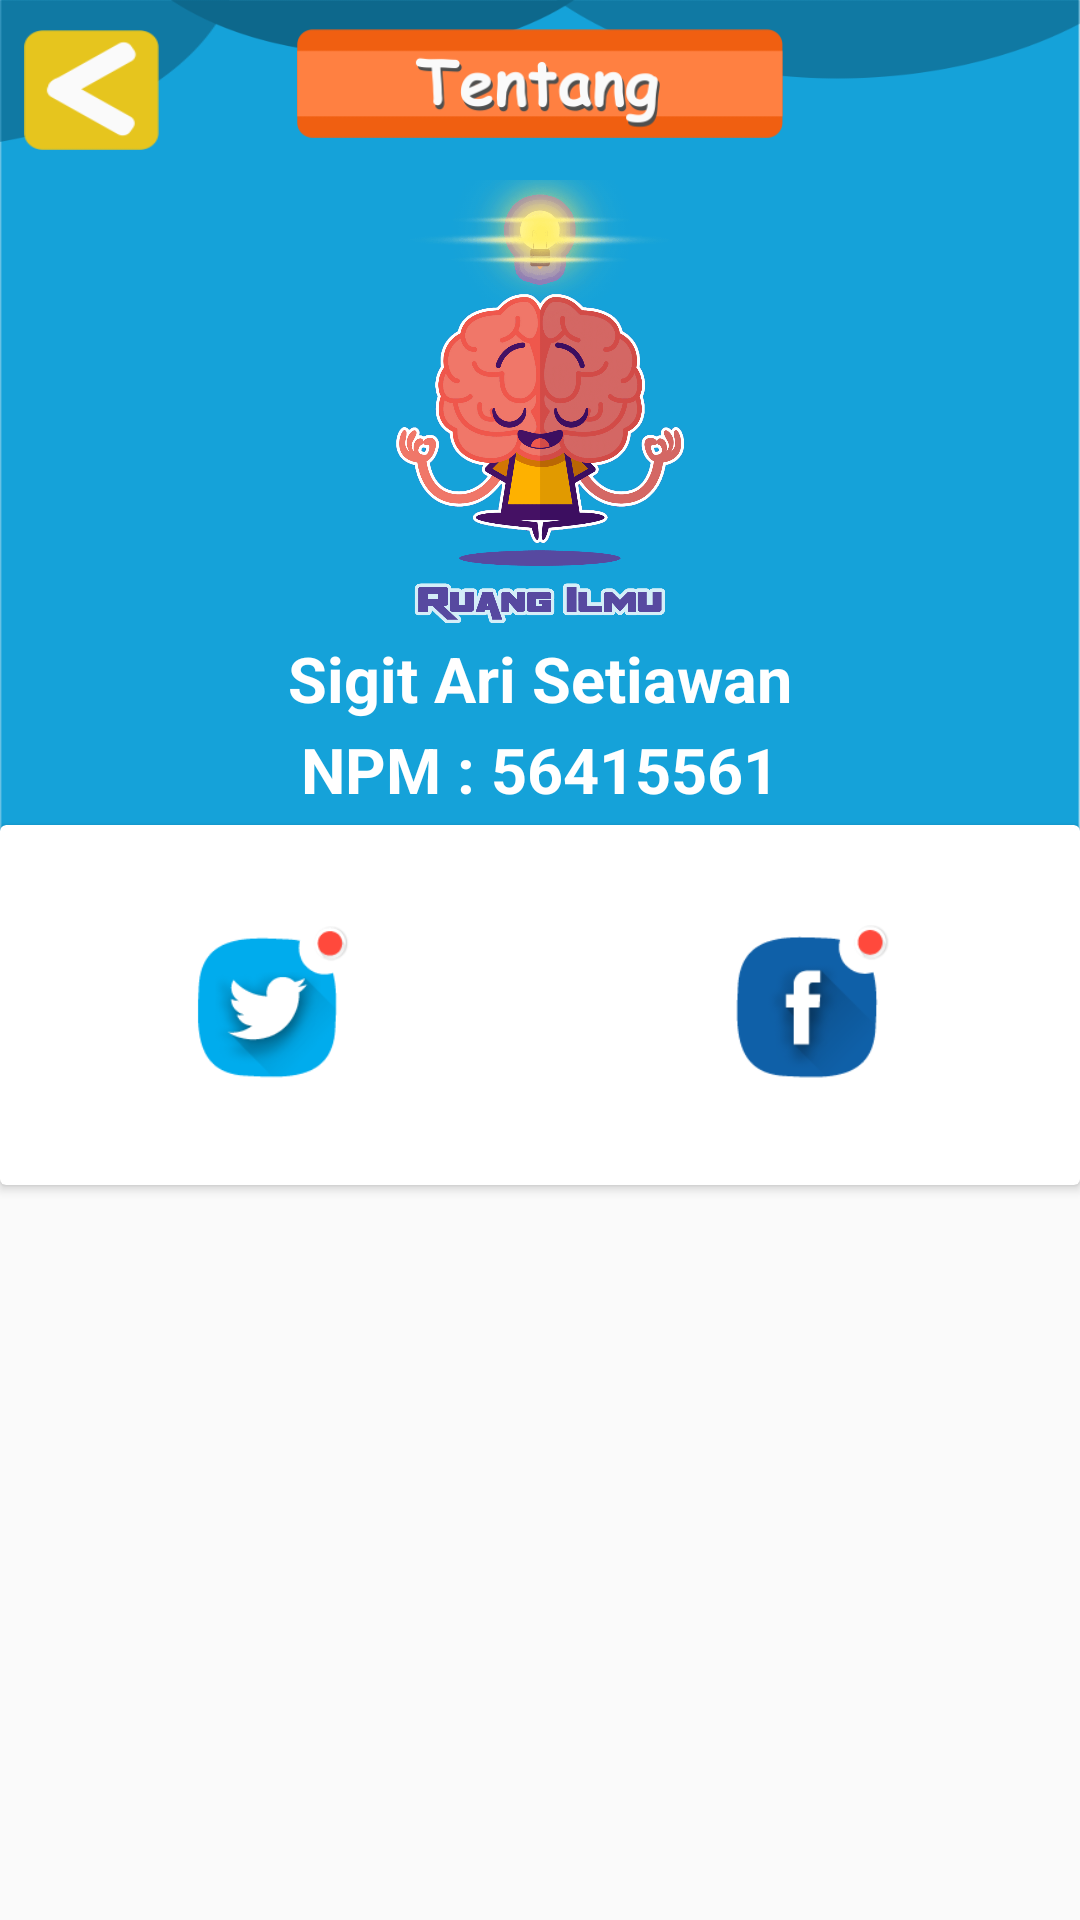

Screen size 1080 × 1920. Icon name, then its center in pixels as (x=x, y=y):
kembali: (x=91, y=90)
